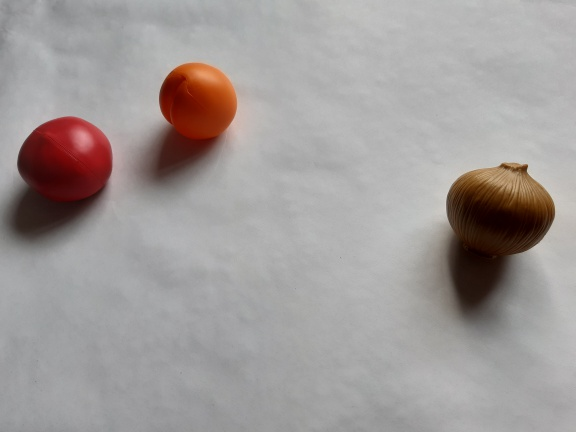apricot: (153, 59, 248, 145)
onion: (427, 153, 565, 267)
tomato: (10, 108, 128, 211)
